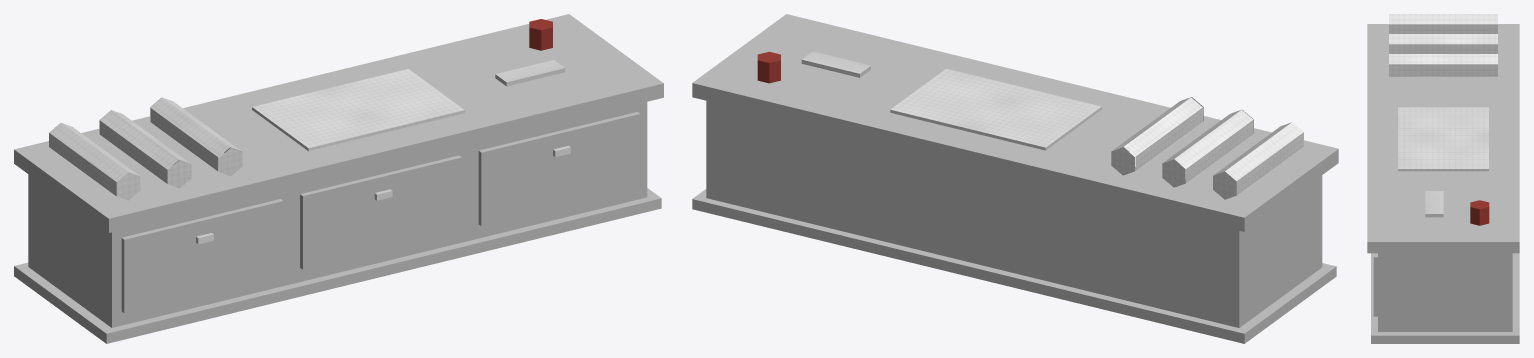
The model's file is bench_tailor.obj.
3 views of the same model, side by side, from view 1: azimuth 30°, elevation 25°; view 2: azimuth 150°, elevation 25°; view 3: azimuth 270°, elevation 25° (orthographic). The views are drawn at different scales.
Visible parts, largest first — view 1: bench_tailor; view 2: bench_tailor; view 3: bench_tailor.
Part boxes in pixels (<box>): bench_tailor: <box>14,14,663,343</box>; bench_tailor: <box>692,14,1338,343</box>; bench_tailor: <box>1367,14,1519,343</box>.
Size of the model in its own units: 2.84 by 0.76 by 0.84.
